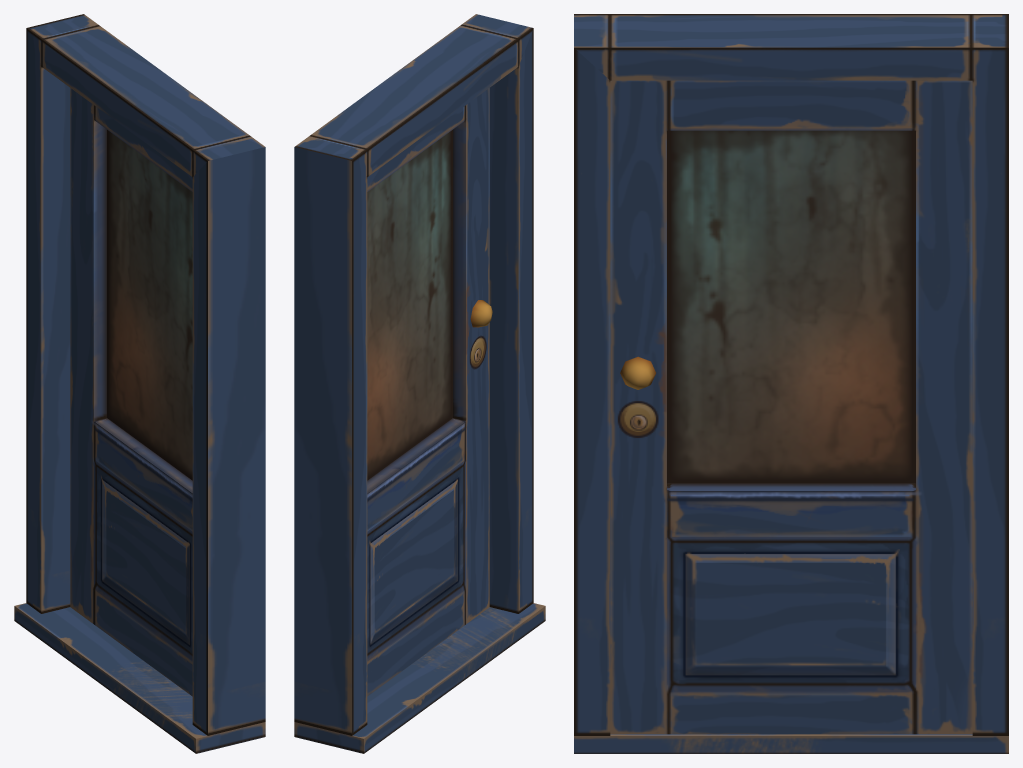
Rendered from storeFront05_door.FBX.
3 views of the same model, side by side, from view 1: azimuth 30°, elevation 25°; view 2: azimuth 150°, elevation 25°; view 3: azimuth 270°, elevation 25° (orthographic). The views are drawn at different scales.
Parts seen in each view (by area): view 1: storeFront05_door_frame, storeFront05_door, storeFront05_door_glass; view 2: storeFront05_door_frame, storeFront05_door, storeFront05_door_glass; view 3: storeFront05_door, storeFront05_door_glass, storeFront05_door_frame.
Boxes of the visible parts, x1=… form: storeFront05_door_frame: x1=14, y1=14, x2=265, y2=753; storeFront05_door: x1=70, y1=88, x2=192, y2=696; storeFront05_door_glass: x1=107, y1=130, x2=192, y2=480; storeFront05_door_frame: x1=294, y1=14, x2=545, y2=753; storeFront05_door: x1=367, y1=88, x2=492, y2=696; storeFront05_door_glass: x1=367, y1=130, x2=452, y2=480; storeFront05_door: x1=610, y1=80, x2=972, y2=734; storeFront05_door_glass: x1=667, y1=130, x2=915, y2=483; storeFront05_door_frame: x1=574, y1=14, x2=1008, y2=753.
Size of the model in its own units: 30.5 by 215 by 120.
